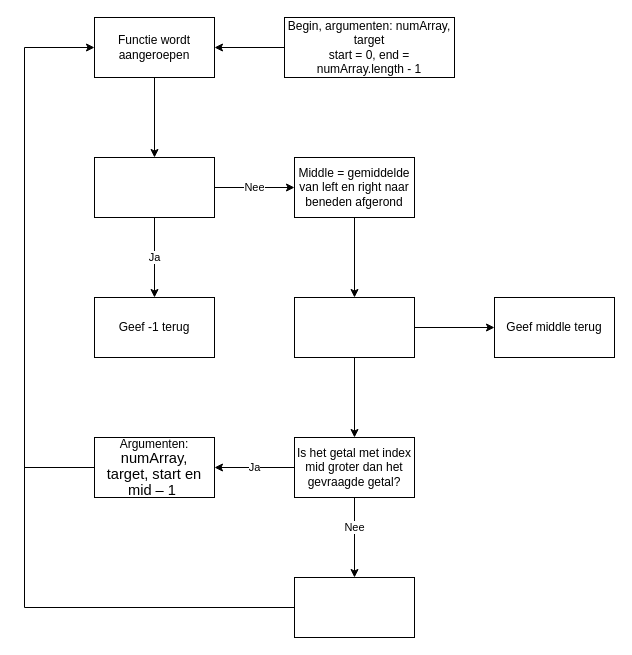
This 632x655 diagram has some shape labels left out. Here are the shapes that lost their labels. From the top down, the centre of each, then its label:
At pixel 154 187: "Is start groter dan end?".
At pixel 354 327: "Is het getal met index middle in de array gelijk aan het gevraagde getal?".
At pixel 354 607: "Argumenten: numArray, target, mid + 1 en end".
